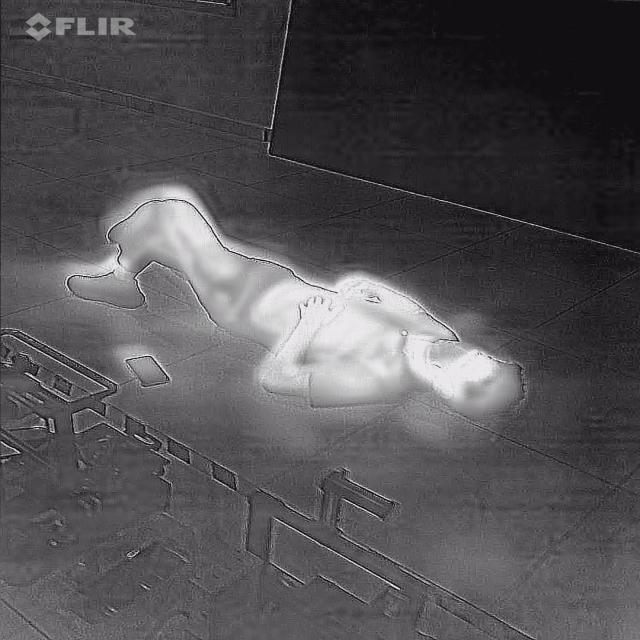Victim: (51, 178, 558, 434)
